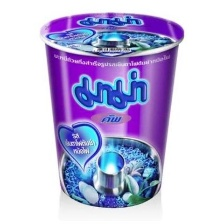paper_cup: (34, 8, 187, 212)
